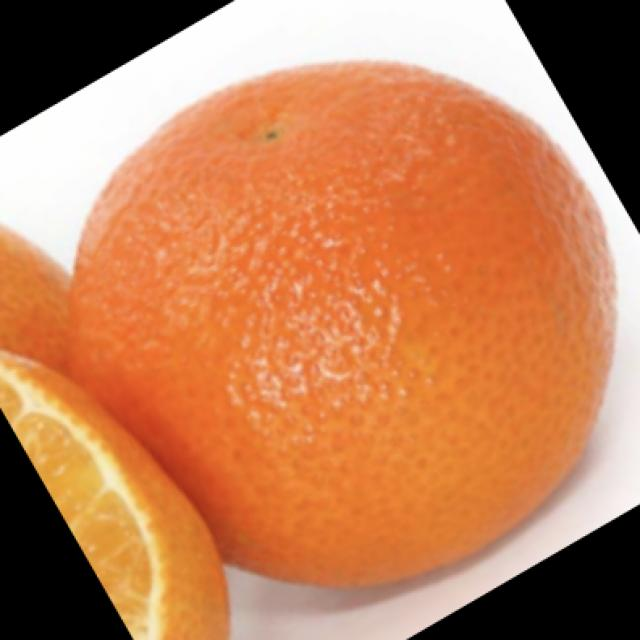fresh: (0, 45, 620, 636)
